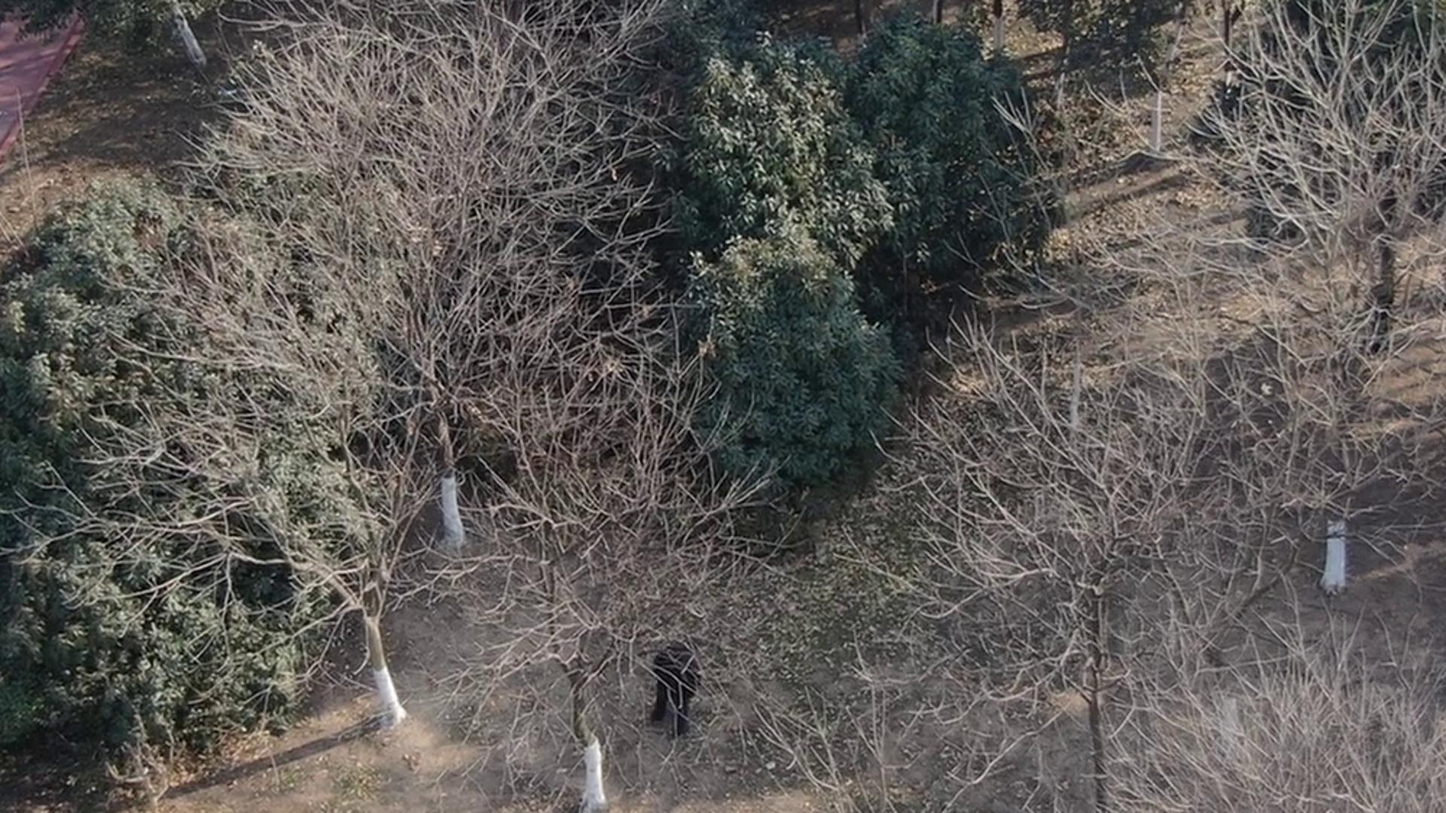human: (623, 619, 688, 726)
